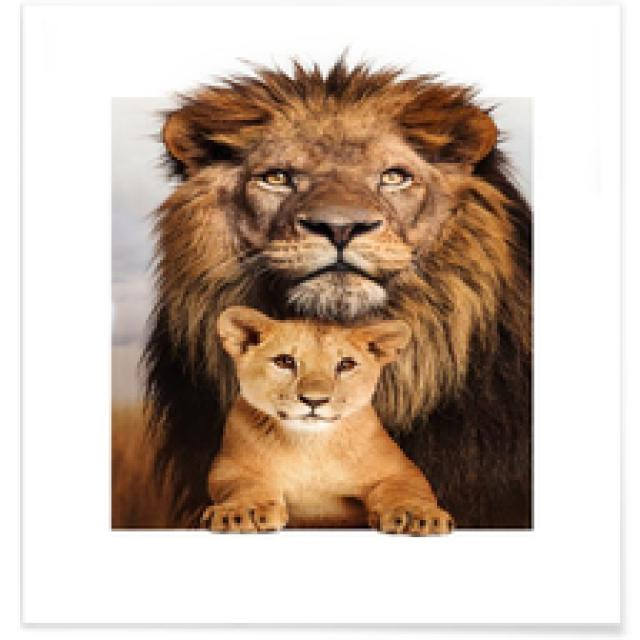lion: (105, 54, 544, 524), (200, 287, 474, 524)
